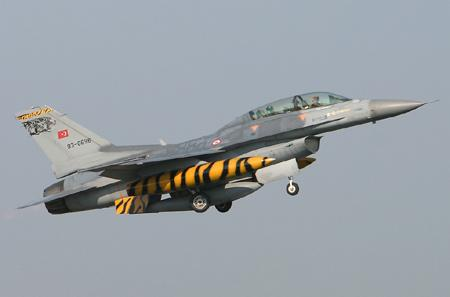airplane: (5, 90, 442, 218)
